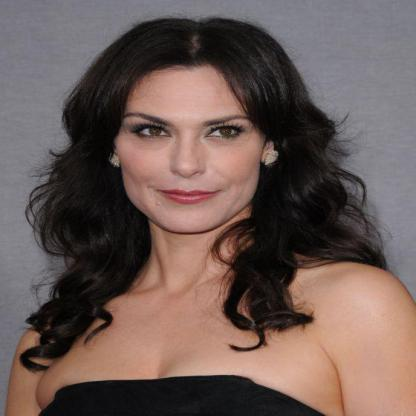long-hair: (38, 234, 344, 291)
